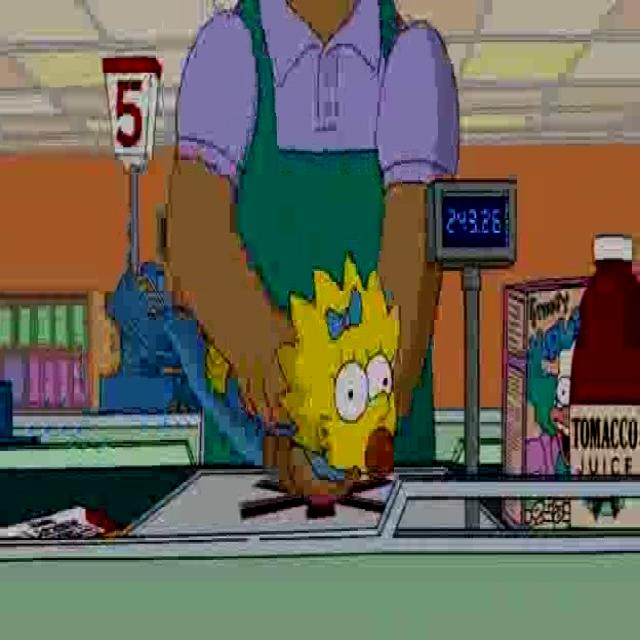Maggie Simpson: (274, 256, 403, 487)
